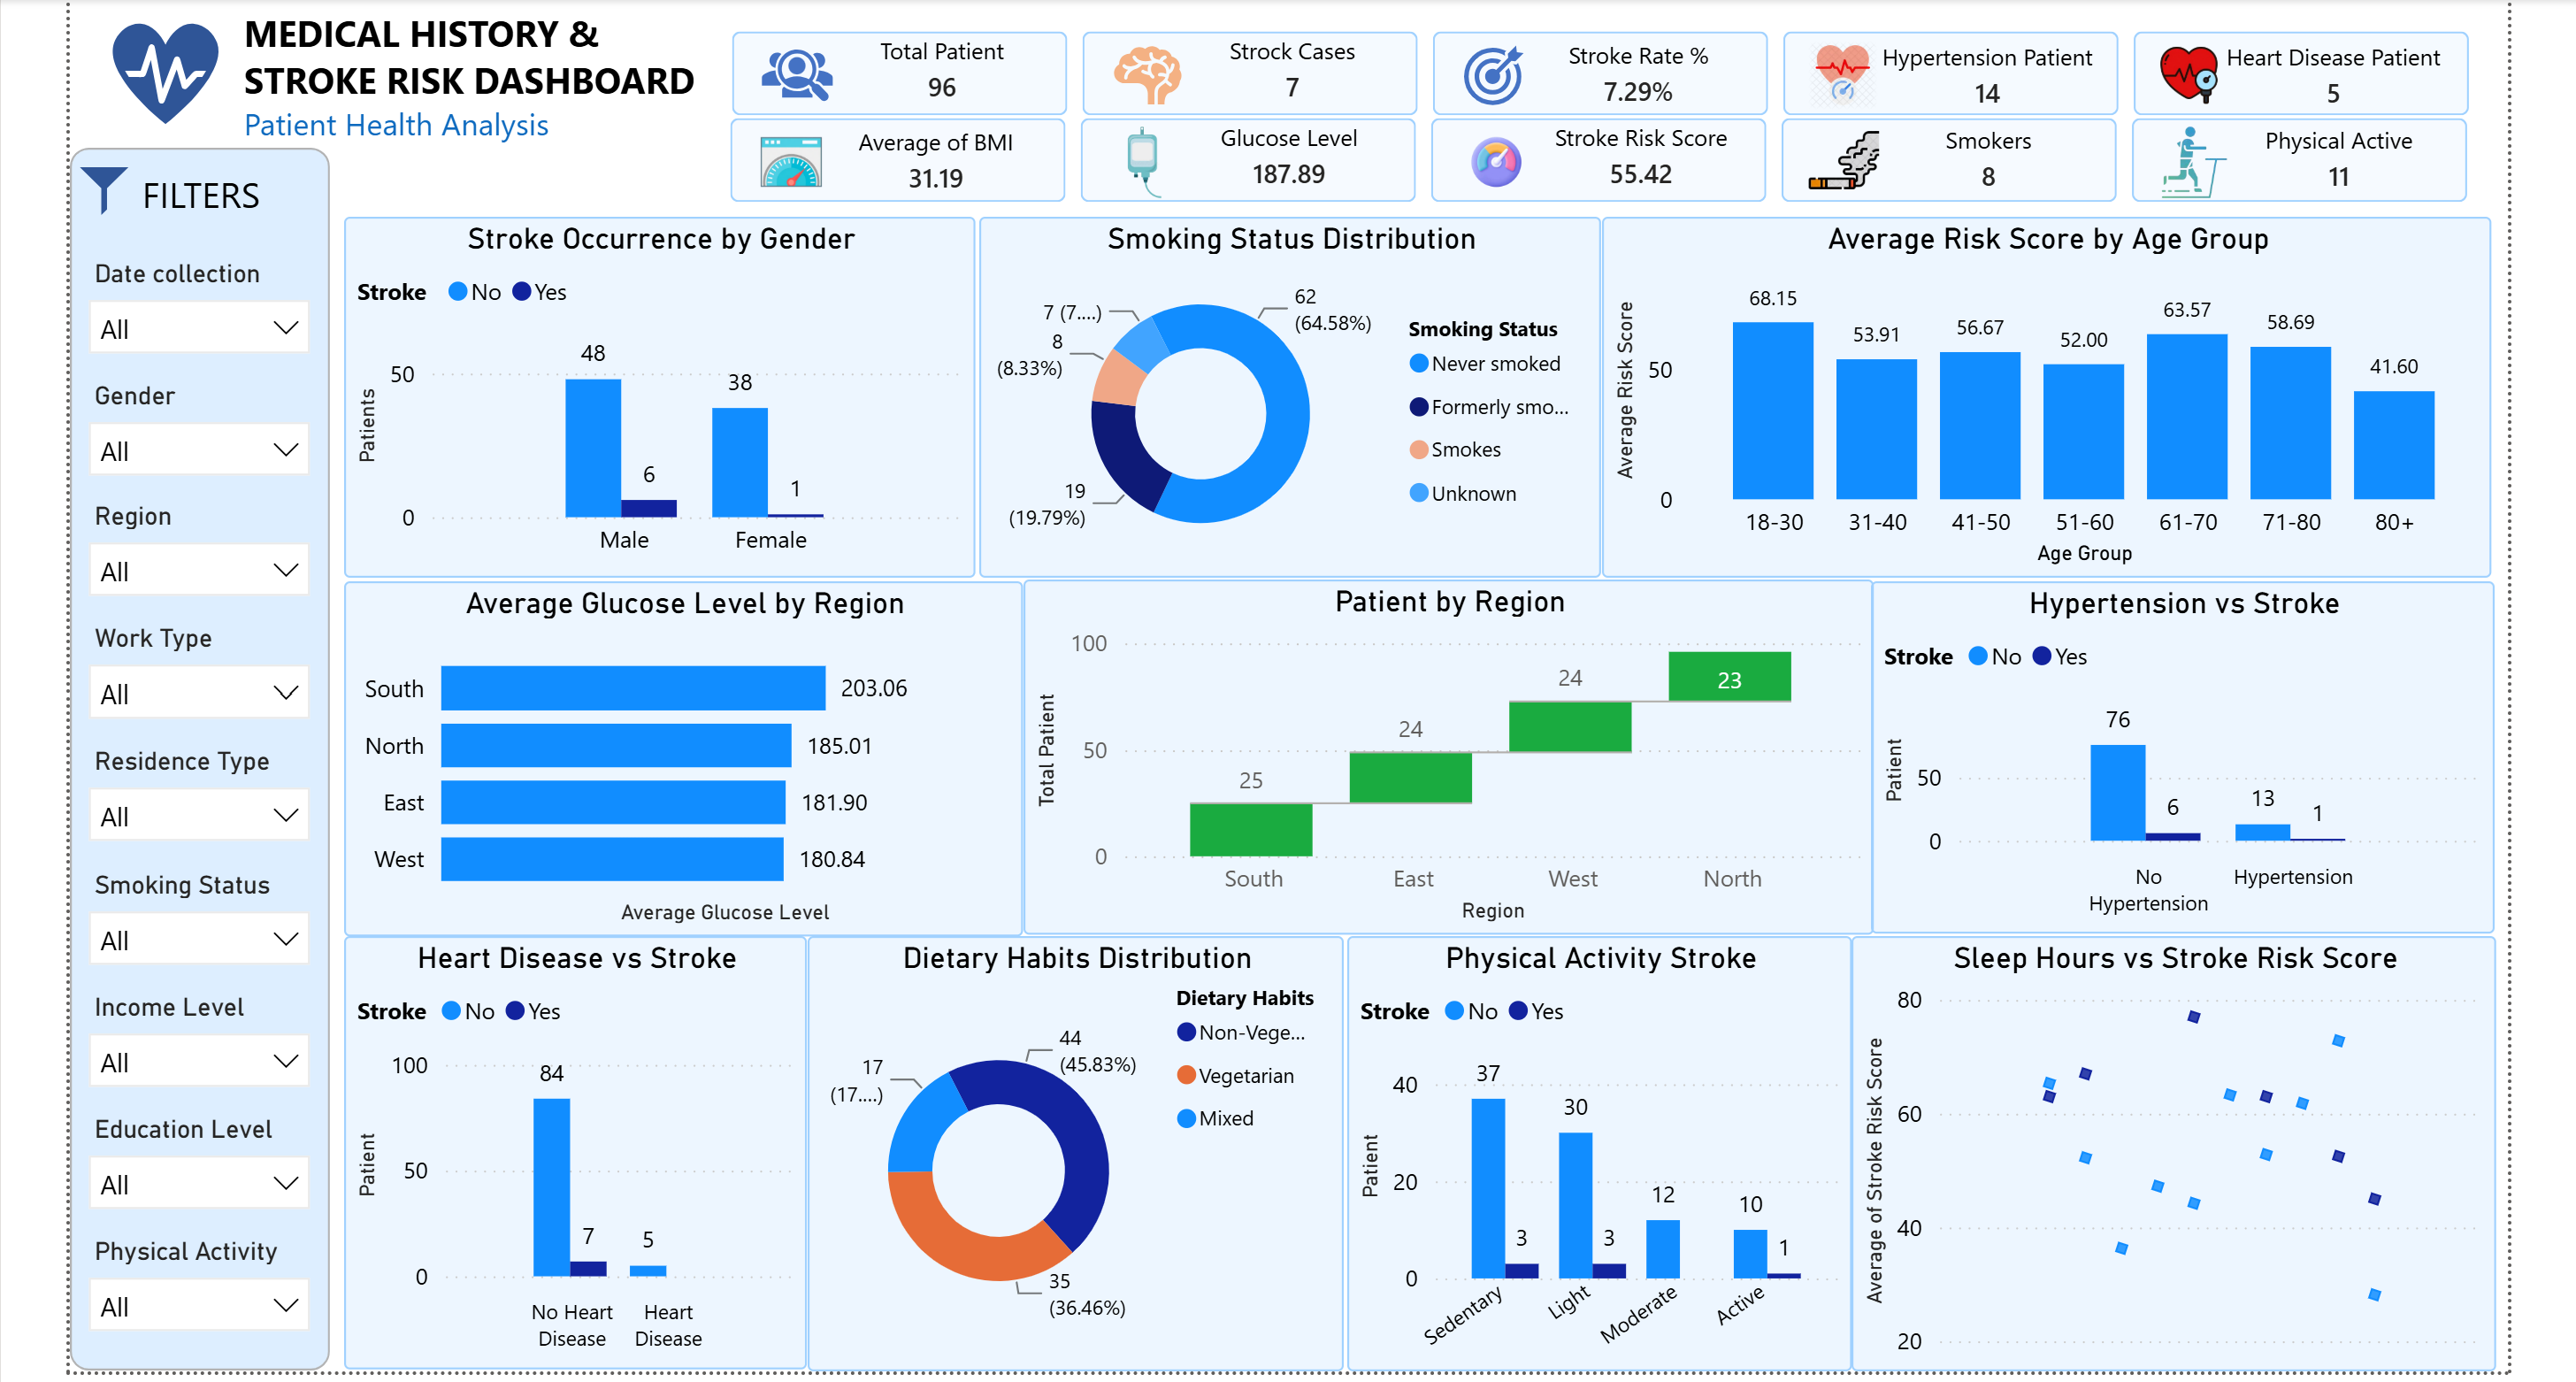

This screenshot's page, from the dashboard's own definition file:
{"tool":"powerbi","page":{"name":"Page 1","canvas":[1280,720],"ordinal":0},"visuals":[{"type":"textbox","box":[86.1,0,280.2,101.5],"z":0},{"type":"image","box":[0,0,100.2,78.4],"z":1000},{"type":"shape","box":[0,78.3,136.5,641.5],"z":2000},{"type":"cardVisual","fields":{"Data":["Medical History.Total Patient","Medical History.Strock Cases","Medical History.Stroke Rate %","Medical History.Hypertension Patient","Medical History.Heart Disease Patient"]},"box":[330.3,0,949.7,78.3],"z":3000},{"type":"cardVisual","fields":{"Data":["Avg(Medical History.BMI)","Avg(Medical History.Average Glucose Level)","Avg(Medical History.Stroke Risk Score)","Medical History.Smokers","Medical History.Physical Active"]},"box":[329.8,45.5,950.4,78],"z":4000},{"type":"clusteredColumnChart","title":" Stroke Occurrence by Gender ","fields":{"Category":["Medical History.Gender"],"Y":["CountNonNull(Medical History.Stroke Occurrence)"],"Series":["Medical History.Stroke"]},"box":[143.6,114.4,331.3,189.7],"z":5000},{"type":"donutChart","title":" Smoking Status Distribution","fields":{"Category":["Medical History.Smoking Status"],"Y":["CountNonNull(Medical History.Smoking Status)"]},"box":[477.3,114.5,326.5,189.3],"z":6000},{"type":"columnChart","title":"Average Risk Score by Age Group","fields":{"Category":["Medical History.Age Group"],"Y":["Avg(Medical History.Stroke Risk Score)"]},"box":[805,114.5,467.1,189.3],"z":7000},{"type":"barChart","title":" Average Glucose Level by Region","fields":{"Y":["Avg(Medical History.Average Glucose Level)"],"Category":["Medical History.Region"]},"box":[144.1,305.7,356.3,185.8],"z":8000},{"type":"waterfallChart","title":"Patient by Region","fields":{"Category":["Medical History.Region"],"Y":["Medical History.Total Patient"]},"box":[500.3,304.6,446.5,185.8],"z":9000},{"type":"clusteredColumnChart","title":"Hypertension vs Stroke ","fields":{"Series":["Medical History.Stroke"],"Y":["CountNonNull(Medical History.Stroke Occurrence)"],"Category":["Medical History.Hypertention p"]},"box":[945.7,305.7,327.7,184.7],"z":10000},{"type":"clusteredColumnChart","title":"Heart Disease vs Stroke ","fields":{"Series":["Medical History.Stroke"],"Y":["CountNonNull(Medical History.Stroke Occurrence)"],"Category":["Medical History.Heart Disease 2"]},"box":[144.1,491.5,243,227.6],"z":10001},{"type":"donutChart","title":" Dietary Habits Distribution","fields":{"Category":["Medical History.Dietary Habits"],"Y":["CountNonNull(Medical History.Dietary Habits)"]},"box":[387.1,491.5,281.5,228.7],"z":10002},{"type":"clusteredColumnChart","title":"Physical Activity Stroke ","fields":{"Category":["Medical History.Physical Activity"],"Series":["Medical History.Stroke"],"Y":["CountNonNull(Medical History.Stroke Occurrence)"]},"box":[670.8,491.5,265,228.7],"z":10003},{"type":"scatterChart","title":"Sleep Hours vs Stroke Risk Score","fields":{"Y":["Avg(Medical History.Stroke Risk Score)"],"X":["Medical History.Sleep Hours"],"Series":["Medical History.Stroke"]},"box":[935.8,491.5,338.7,228.7],"z":10004},{"type":"slicer","fields":{"Values":["Medical History.Data collection date.Variation.Date Hierarchy.Month"]},"box":[0,131.1,136.2,64.3],"z":10005},{"type":"slicer","fields":{"Values":["Medical History.Gender"]},"box":[0,195.3,136.2,63],"z":10006},{"type":"slicer","fields":{"Values":["Medical History.Region"]},"box":[0,258.3,136.2,64.3],"z":10007},{"type":"slicer","fields":{"Values":["Medical History.Work Type"]},"box":[0,322.6,136.2,64.3],"z":10008},{"type":"slicer","fields":{"Values":["Medical History.Residence Type"]},"box":[0,386.8,136.2,64.3],"z":10009},{"type":"slicer","fields":{"Values":["Medical History.Smoking Status"]},"box":[0,451.1,136.2,64.3],"z":10010},{"type":"slicer","fields":{"Values":["Medical History.Income Level"]},"box":[0,515.3,136.2,64.3],"z":10011},{"type":"slicer","fields":{"Values":["Medical History.Education Level"]},"box":[0,579.6,136.2,64.3],"z":10012},{"type":"slicer","fields":{"Values":["Medical History.Physical Activity"]},"box":[0,643.9,136.2,64.3],"z":10013},{"type":"textbox","box":[1,84.4,136.1,44.7],"z":10014},{"type":"image","box":[0,78.5,35.8,45.7],"z":10015}]}

Visuals, with their boxes in screenshot pixels (x1, y1, x2, y2):
textbox: {"left": 229, "top": 0, "right": 779, "bottom": 186}
image: {"left": 60, "top": 0, "right": 257, "bottom": 141}
shape: {"left": 60, "top": 141, "right": 328, "bottom": 1381}
cardVisual - Medical History.Total Patient x Medical History.Strock Cases: {"left": 709, "top": 0, "right": 2572, "bottom": 141}
cardVisual - Avg(Medical History.BMI) x Avg(Medical History.Average Glucose Level): {"left": 708, "top": 76, "right": 2572, "bottom": 229}
" Stroke Occurrence by Gender " clusteredColumnChart: {"left": 342, "top": 211, "right": 993, "bottom": 583}
" Smoking Status Distribution" donutChart: {"left": 997, "top": 211, "right": 1637, "bottom": 583}
"Average Risk Score by Age Group" columnChart: {"left": 1640, "top": 211, "right": 2557, "bottom": 583}
" Average Glucose Level by Region" barChart: {"left": 343, "top": 587, "right": 1042, "bottom": 951}
"Patient by Region" waterfallChart: {"left": 1042, "top": 585, "right": 1919, "bottom": 949}
"Hypertension vs Stroke " clusteredColumnChart: {"left": 1916, "top": 587, "right": 2559, "bottom": 949}
"Heart Disease vs Stroke " clusteredColumnChart: {"left": 343, "top": 951, "right": 820, "bottom": 1381}
" Dietary Habits Distribution" donutChart: {"left": 820, "top": 951, "right": 1372, "bottom": 1381}
"Physical Activity Stroke " clusteredColumnChart: {"left": 1376, "top": 951, "right": 1897, "bottom": 1381}
"Sleep Hours vs Stroke Risk Score" scatterChart: {"left": 1897, "top": 951, "right": 2561, "bottom": 1381}
slicer - Medical History.Data collection date.Variation.Date Hierarchy.Month: {"left": 60, "top": 244, "right": 327, "bottom": 370}
slicer - Medical History.Gender: {"left": 60, "top": 370, "right": 327, "bottom": 494}
slicer - Medical History.Region: {"left": 60, "top": 494, "right": 327, "bottom": 619}
slicer - Medical History.Work Type: {"left": 60, "top": 619, "right": 327, "bottom": 746}
slicer - Medical History.Residence Type: {"left": 60, "top": 746, "right": 327, "bottom": 872}
slicer - Medical History.Smoking Status: {"left": 60, "top": 872, "right": 327, "bottom": 998}
slicer - Medical History.Income Level: {"left": 60, "top": 998, "right": 327, "bottom": 1125}
slicer - Medical History.Education Level: {"left": 60, "top": 1125, "right": 327, "bottom": 1250}
slicer - Medical History.Physical Activity: {"left": 60, "top": 1250, "right": 327, "bottom": 1377}
textbox: {"left": 62, "top": 152, "right": 329, "bottom": 240}
image: {"left": 60, "top": 141, "right": 131, "bottom": 230}
